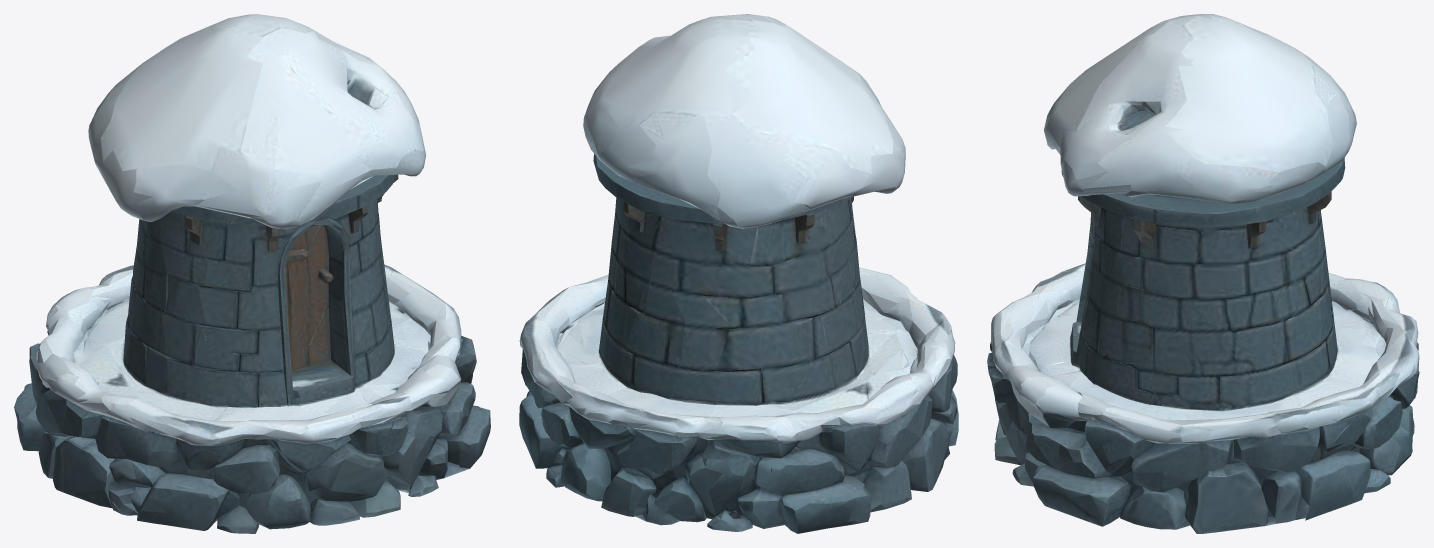
The model's file is ruin_tower.glb.
3 renders of one model, left to right at view 1: azimuth 30°, elevation 25°; view 2: azimuth 150°, elevation 25°; view 3: azimuth 270°, elevation 25°, orthographic.
Bounding box in the file's own units: 1.86 × 1.9 × 1.8.
1 material, 1 textured.
